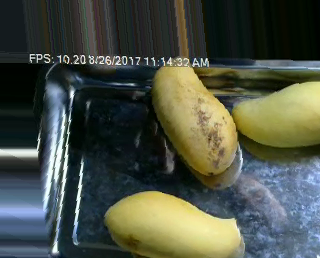Mango: (145, 53, 245, 179), (97, 186, 245, 257), (229, 73, 320, 152)
